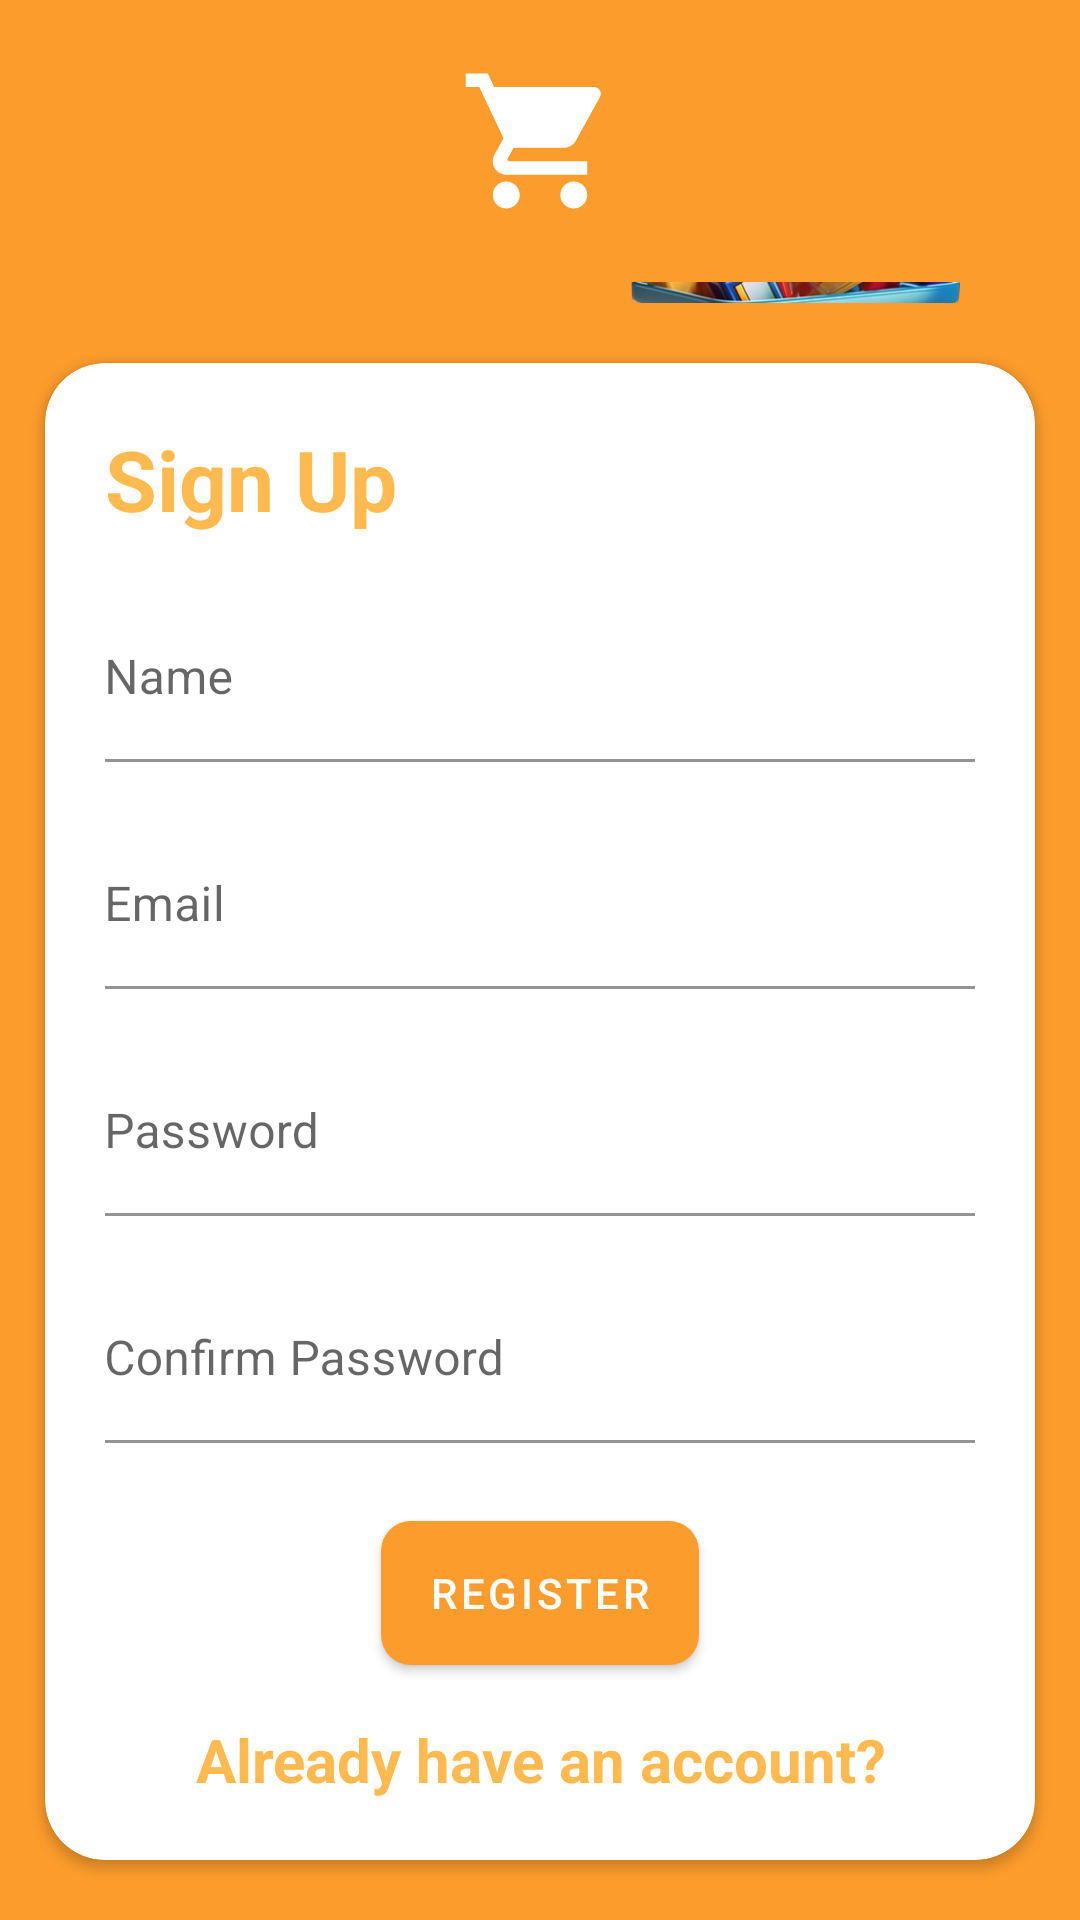

Where to tap for icons on this 1080×1920 app screen, as (x=x, y=y):
shopping cart: (x=533, y=141)
